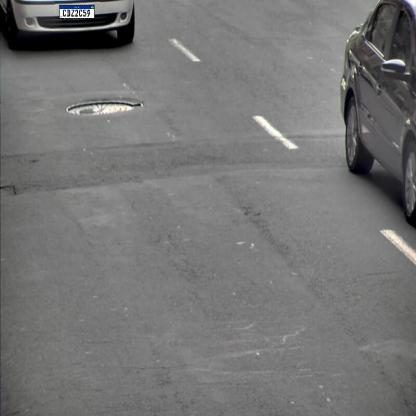PlacaM: (59, 5, 95, 19)
